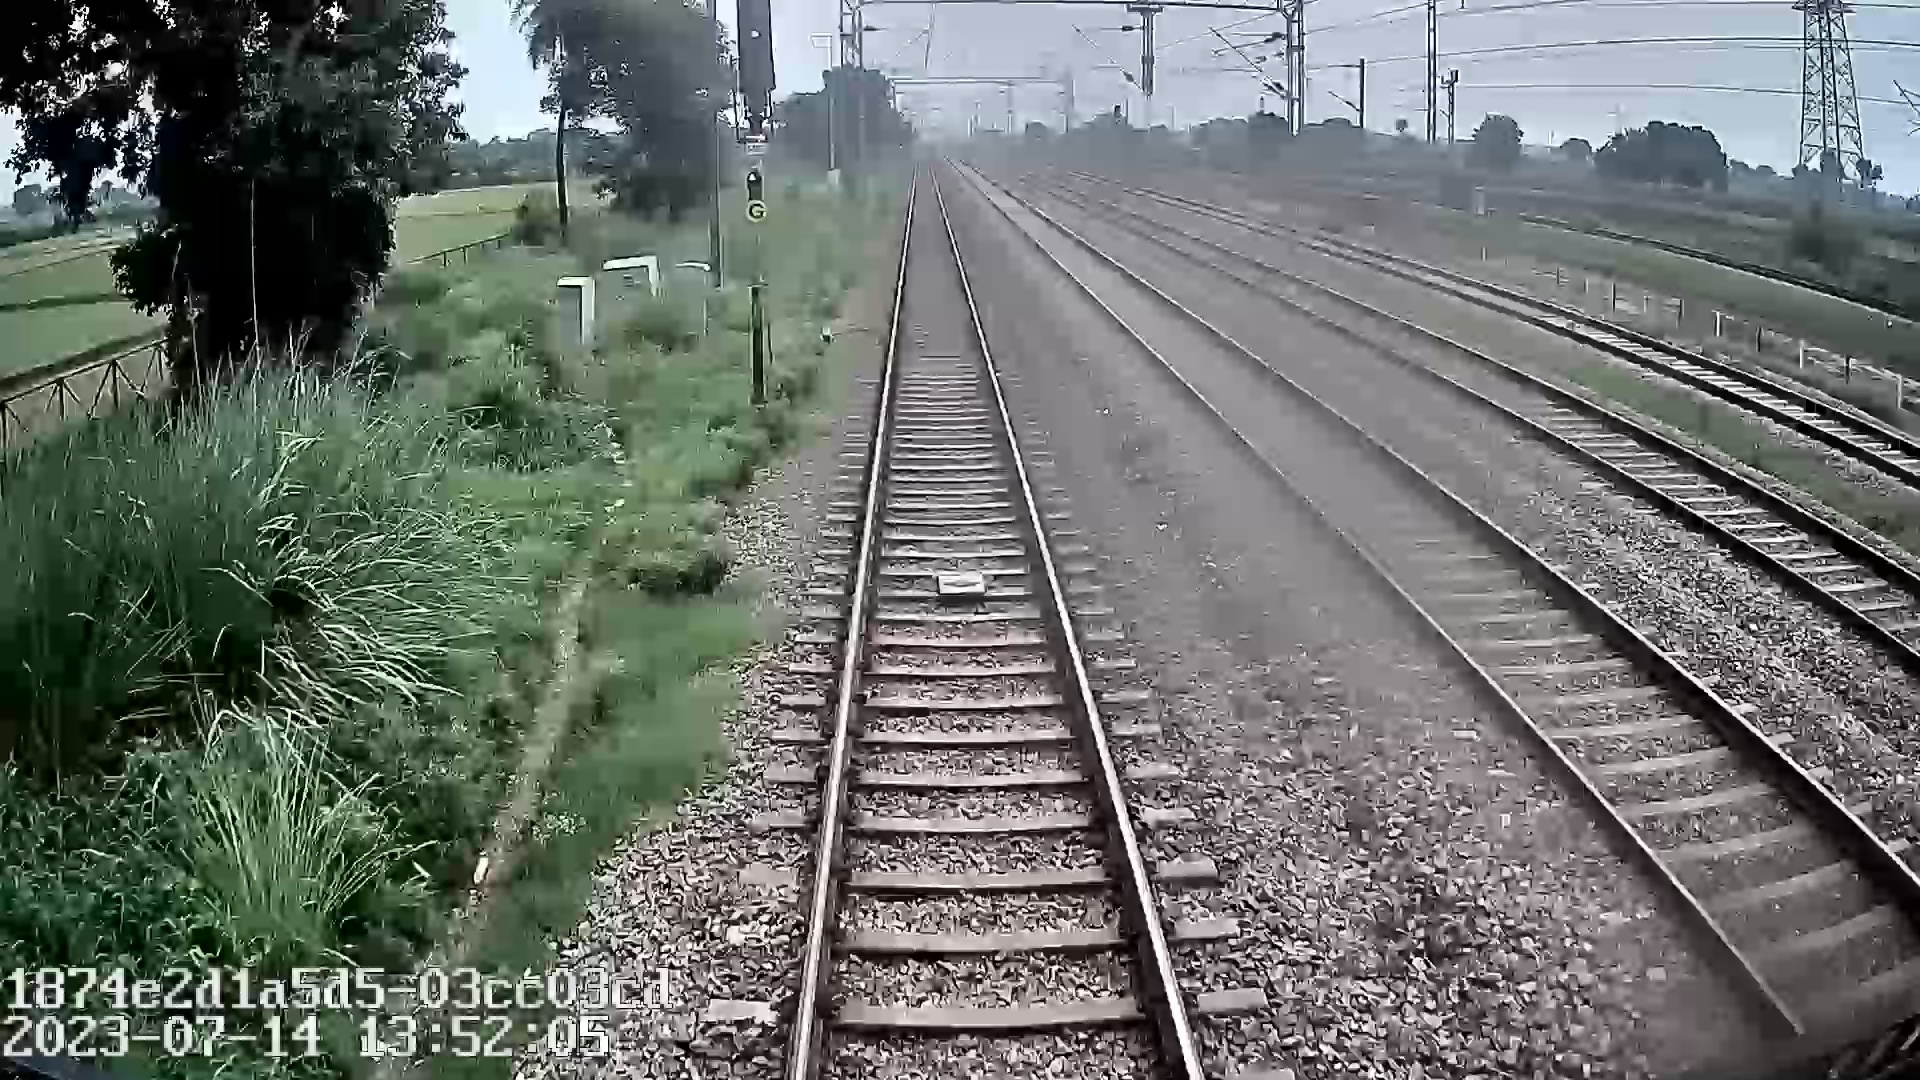track1: (800, 222, 1193, 1071)
track2: (1005, 212, 1917, 964)
track3: (1204, 251, 1916, 636)
track4: (1422, 272, 1916, 469)
